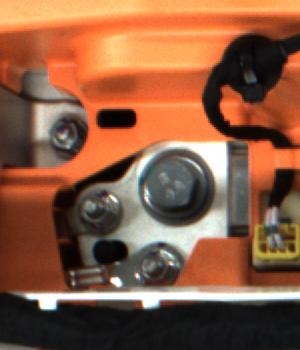nut_b: (134, 146, 225, 235)
